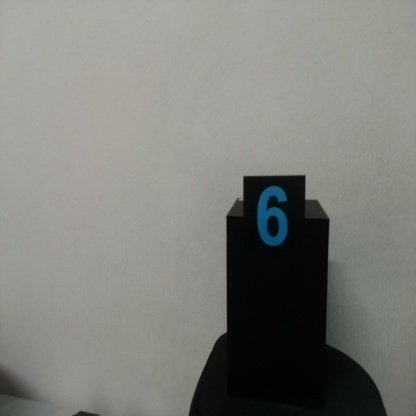id_6: (244, 175, 304, 281)
